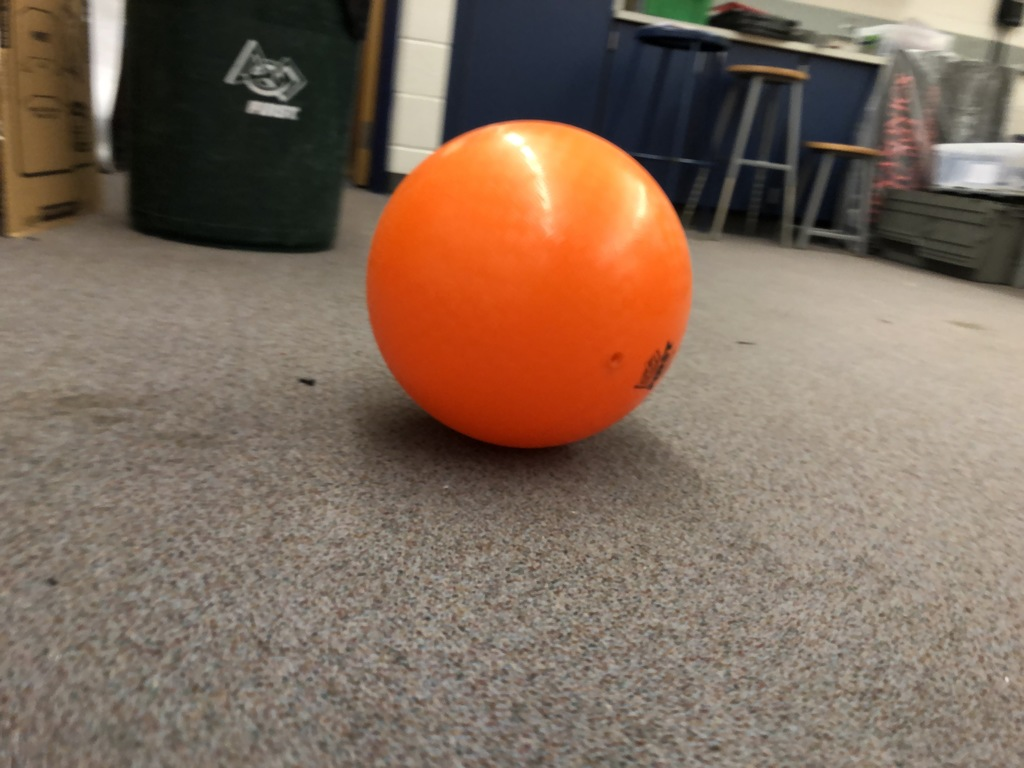cargo: (360, 110, 705, 467)
